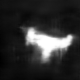plane: (20, 25, 75, 66)
